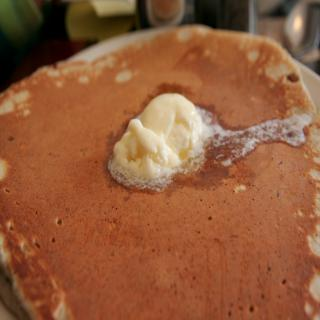Pancake: (0, 26, 320, 320), (0, 26, 320, 320)
